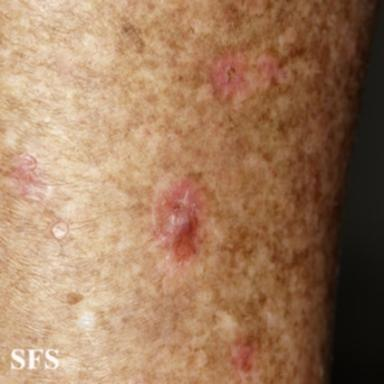Porokeratosis: (208, 50, 294, 103), (153, 177, 203, 262), (5, 153, 51, 202), (229, 331, 258, 384), (51, 221, 69, 239)
